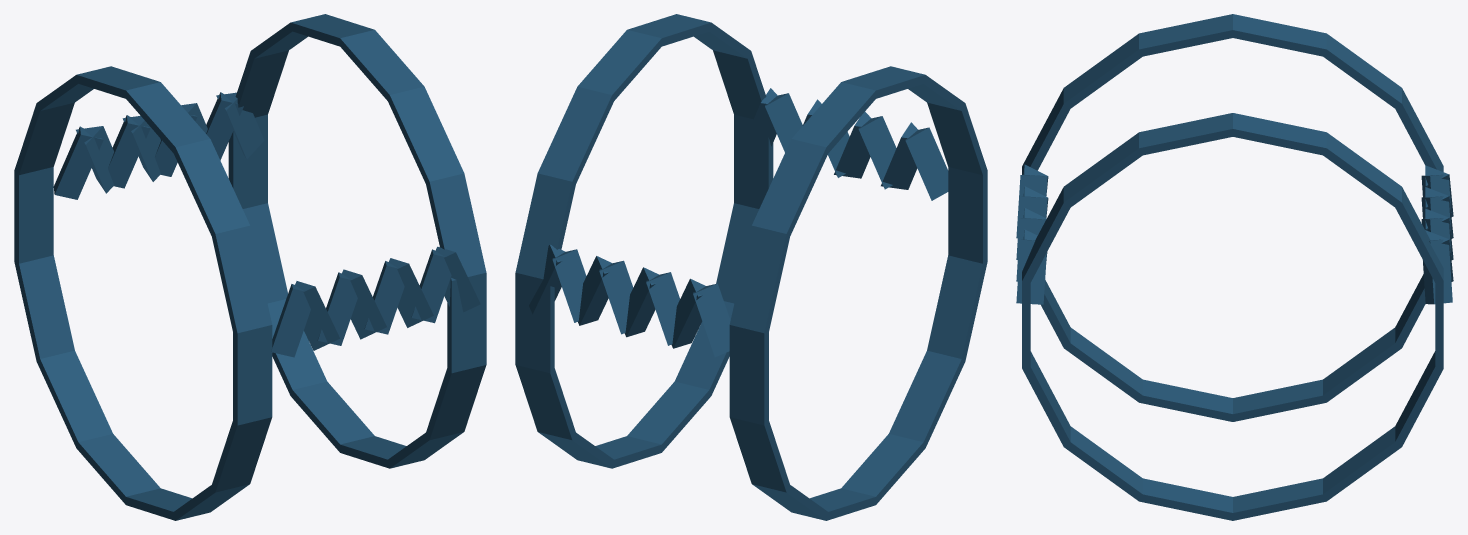
File: saltreaver_arm_l.glb
The picture shows the model from 3 angles, left to right: view 1: azimuth 30°, elevation 25°; view 2: azimuth 150°, elevation 25°; view 3: azimuth 270°, elevation 25°; orthographic projection. The views are drawn at different scales.
Parts seen in each view (by area): view 1: saltreaver_arm_l; view 2: saltreaver_arm_l; view 3: saltreaver_arm_l.
Boxes of the visible parts, x1,y1,x2,y2 form: saltreaver_arm_l: (14, 14, 486, 520); saltreaver_arm_l: (515, 14, 987, 520); saltreaver_arm_l: (1016, 14, 1453, 520).
Bounding box in the file's own units: 0.186 × 0.296 × 0.2991.
